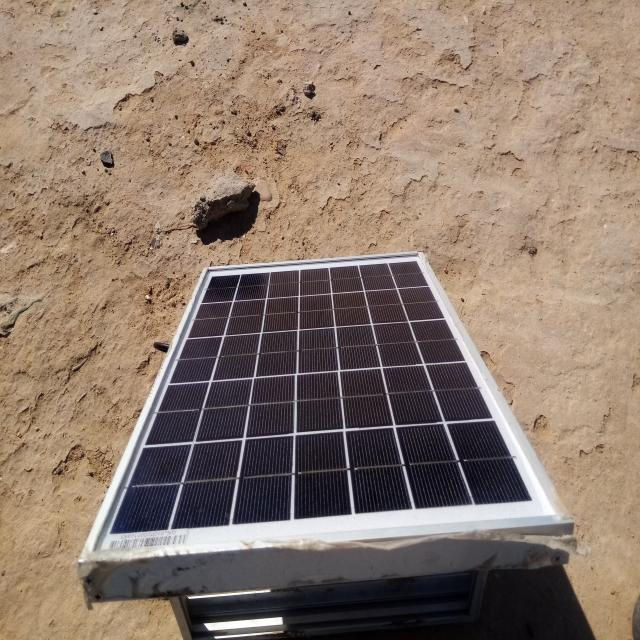no faulty: (83, 252, 569, 562)
